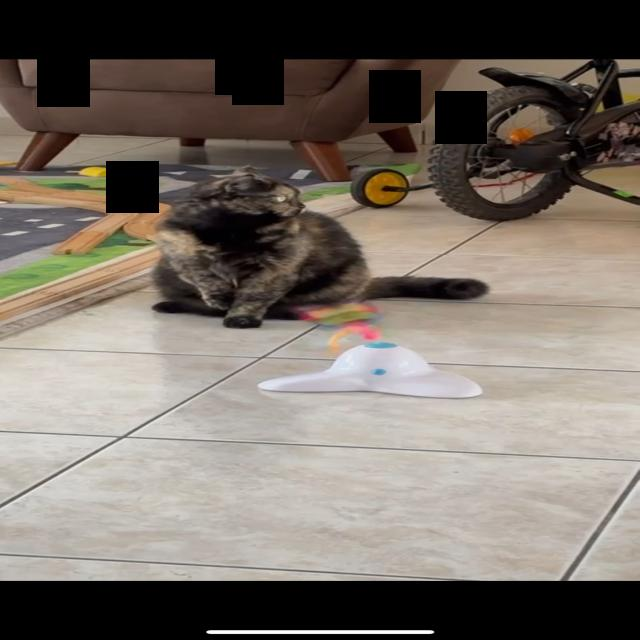authorized: (148, 164, 489, 329)
